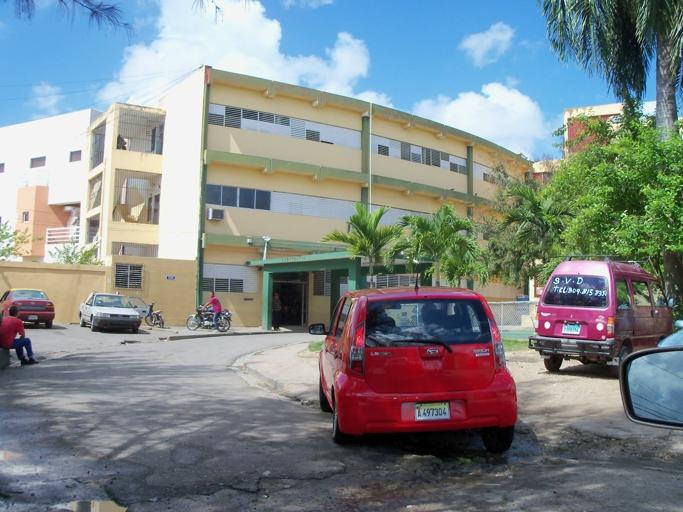non-vehicle: (184, 305, 232, 332), (143, 302, 164, 327)
